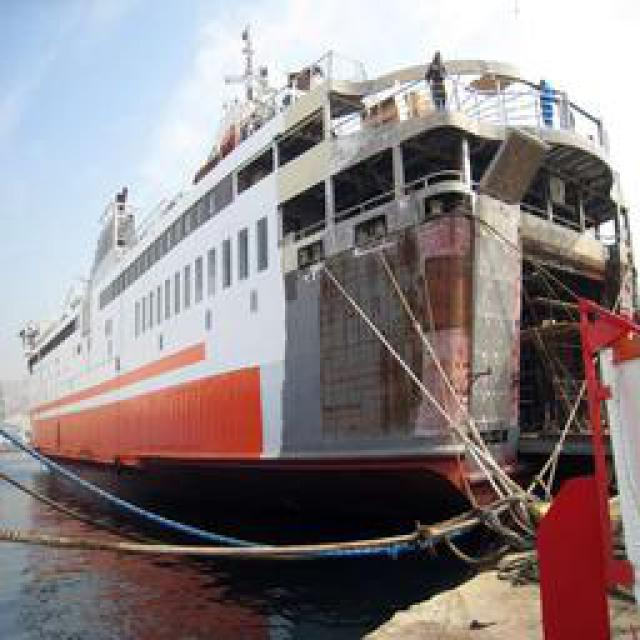Ship: (16, 45, 626, 598)
